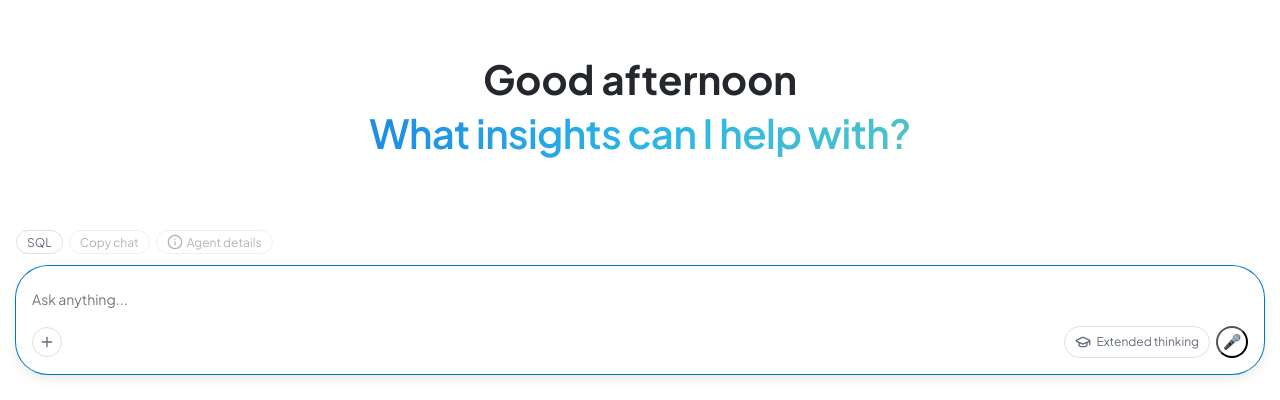
Test case: ChatContainer record context › sends the typed question unchanged when there is no host context preamble
Type "Which region had the highest profit?" into the text box with placeholder "Ask anything..." at [640, 300], box [32,282,1248,318]
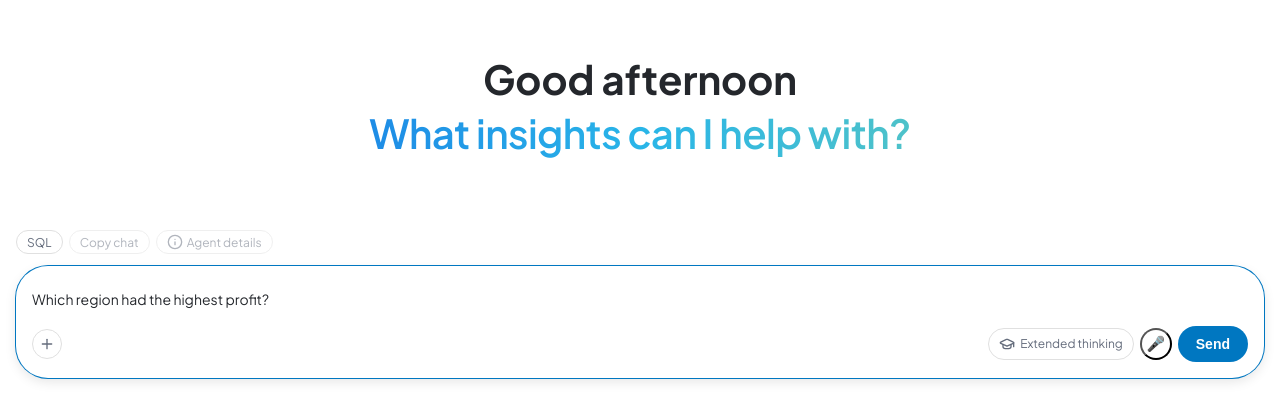
Click the button "Send" at [1213, 344], box [1178,326,1248,362]
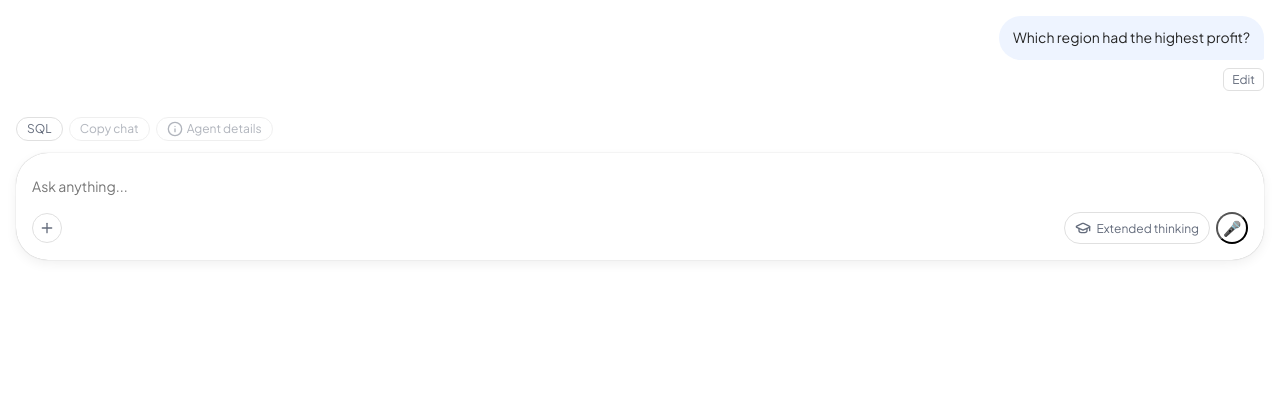
Expected: the text "Which region had the highest profit?" is shown, [999,16,1264,60]
Type "And last quarter?" into the text box with placeholder "Ask anything..." at [640, 187], box [32,169,1248,204]
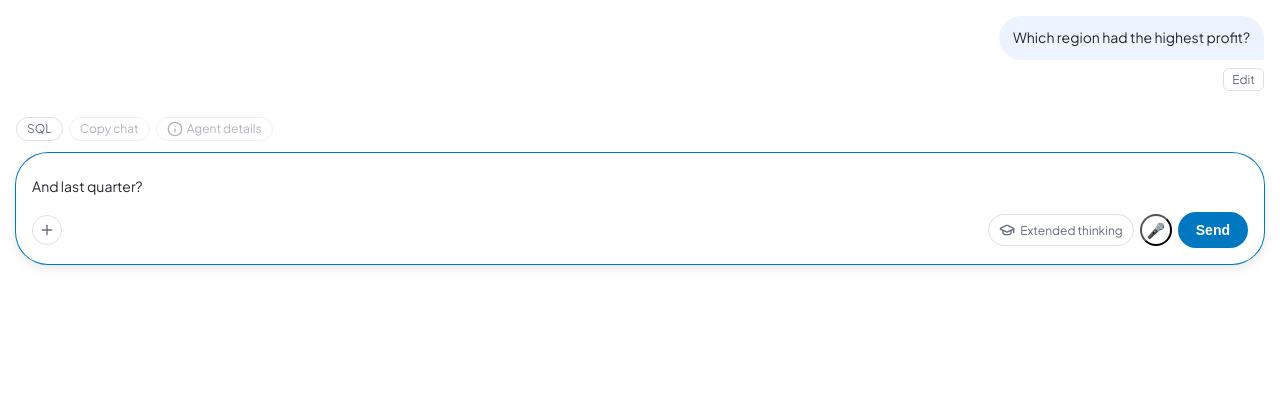
Click the button "Send" at [1213, 230], box [1178,212,1248,248]
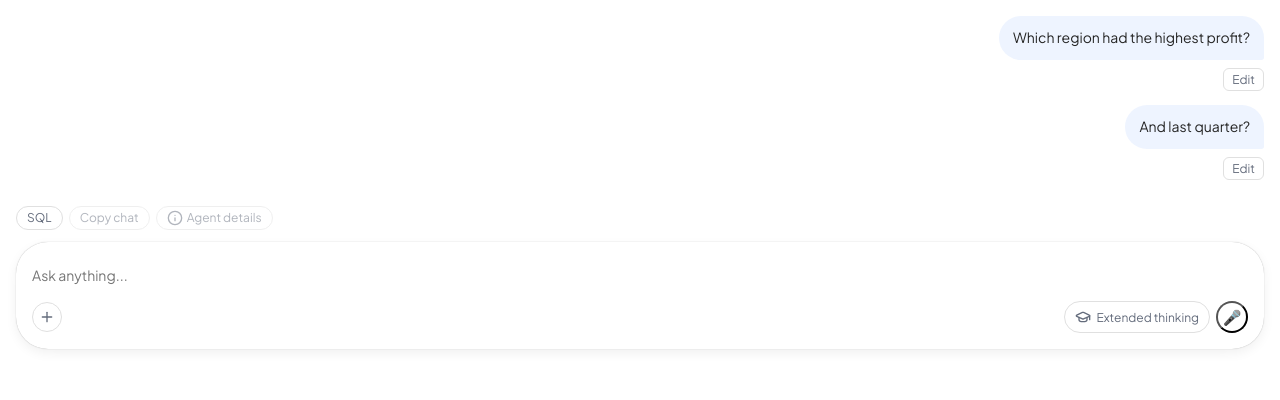
Expected: the text "And last quarter?" is shown, [1125,105,1264,149]
